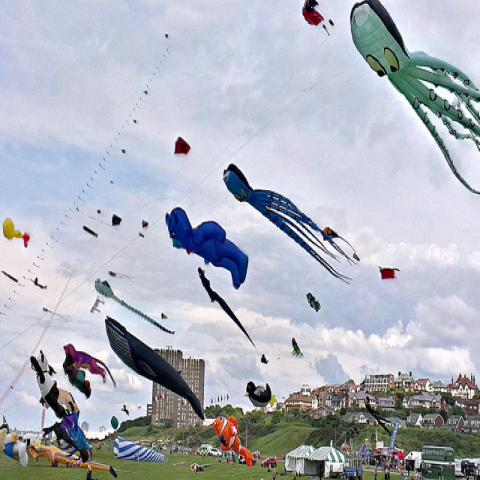bus: (421, 444, 456, 479)
car: (261, 456, 277, 468), (199, 444, 213, 455), (210, 448, 222, 457), (151, 442, 156, 451), (172, 446, 176, 452), (163, 445, 167, 450)
